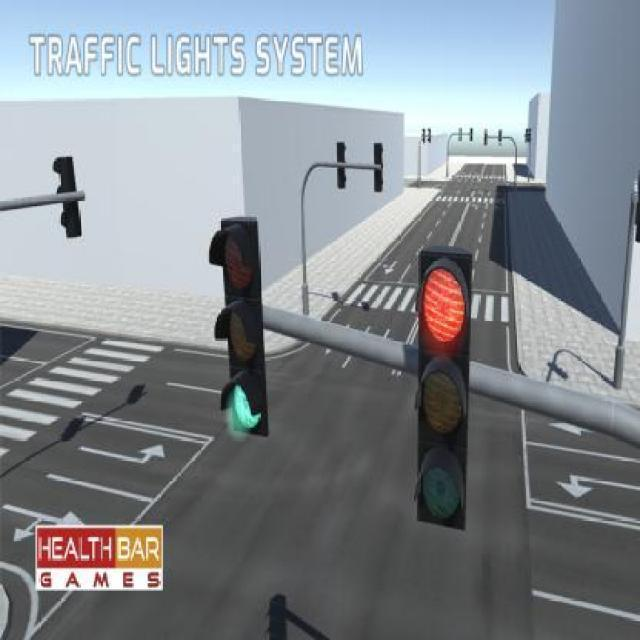red_light: (409, 243, 474, 540)
